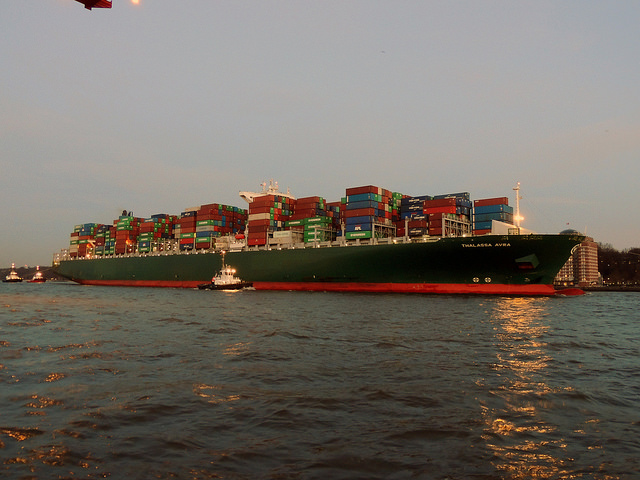container_ship: (55, 175, 592, 297)
tug_boat: (197, 248, 257, 291), (2, 262, 26, 283), (28, 264, 45, 281)
